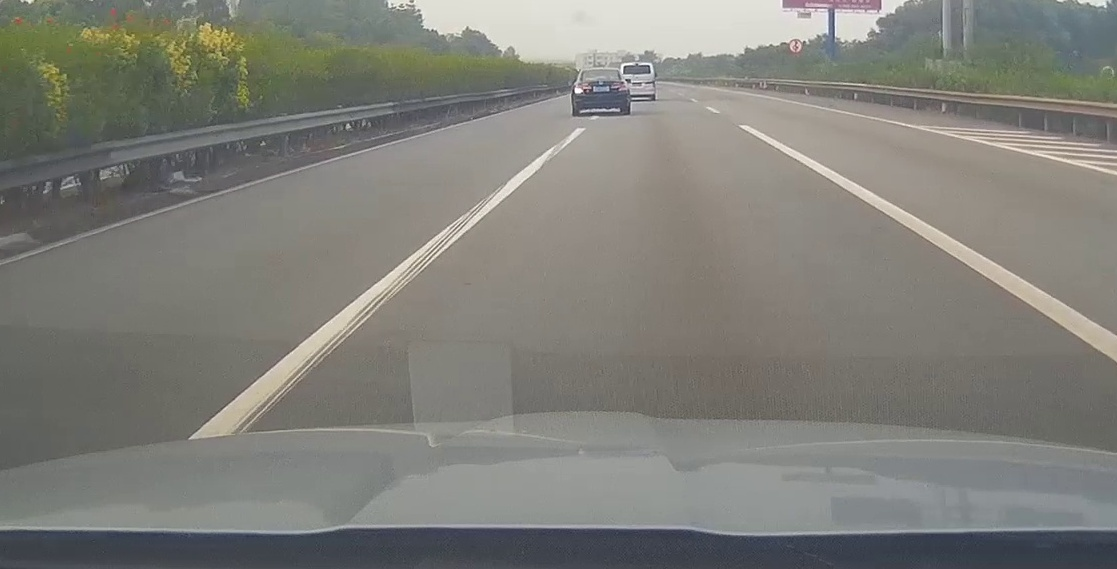L_light: (574, 84, 592, 94)
R_light: (611, 83, 628, 92)
T_light: (595, 69, 606, 70)
day-left: (571, 68, 631, 117)
